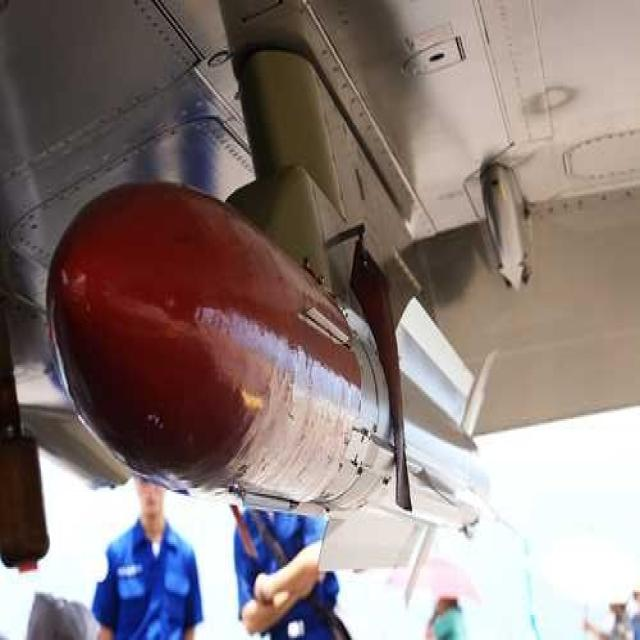missile: (49, 176, 484, 602)
